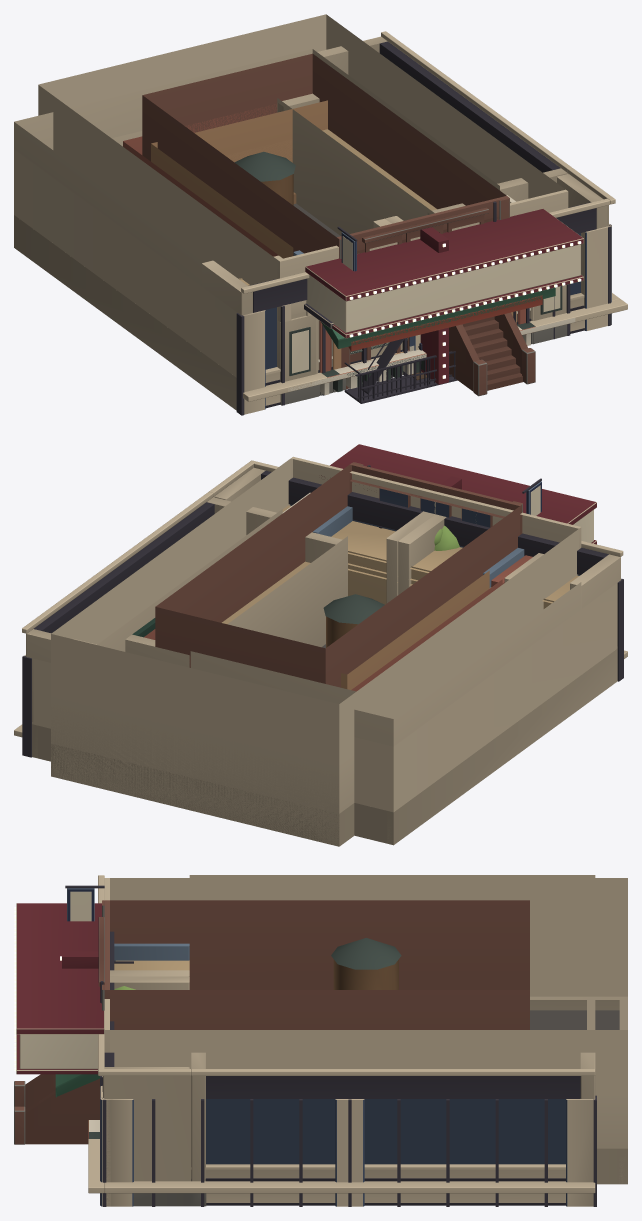
Rendered from buildings.glb.
3 views of the same model, one above another, from view 1: azimuth 30°, elevation 25°; view 2: azimuth 150°, elevation 25°; view 3: azimuth 270°, elevation 25° (orthographic). The views are drawn at different scales.
Visible parts, largest first — view 1: theater_base, brownstone_base, office_base, office_mid, limestone_base, office_top, laundry_base, walkup_base, walkup_top, walkup_mid, theater_mid, laundry_mid (+3 smaller); view 2: theater_base, office_base, brownstone_base, office_mid, theater_mid, limestone_base, office_top, theater_top, laundry_base, walkup_top, walkup_base; view 3: brownstone_base, theater_base, office_mid, office_base, office_top, theater_mid, walkup_top, theater_top, laundry_base, limestone_base.
Part boxes in pixels (left/top/right/bottom): theater_base: left=38, top=14, right=583, bottom=405; brownstone_base: left=142, top=53, right=535, bottom=401; office_base: left=14, top=31, right=615, bottom=328; office_mid: left=14, top=149, right=611, bottom=415; limestone_base: left=112, top=93, right=555, bottom=395; office_top: left=14, top=215, right=627, bottom=410; laundry_base: left=151, top=100, right=357, bottom=392; walkup_base: left=123, top=104, right=542, bottom=395; walkup_top: left=234, top=151, right=535, bottom=403; walkup_mid: left=320, top=309, right=525, bottom=403; theater_mid: left=280, top=74, right=555, bottom=384; laundry_mid: left=225, top=139, right=516, bottom=369; theater_base: left=51, top=444, right=596, bottom=845; office_base: left=22, top=460, right=623, bottom=746; brownstone_base: left=155, top=462, right=522, bottom=687; office_mid: left=22, top=504, right=623, bottom=812; theater_mid: left=51, top=504, right=339, bottom=846; limestone_base: left=125, top=492, right=543, bottom=703; office_top: left=14, top=646, right=627, bottom=845; theater_top: left=51, top=744, right=354, bottom=846; laundry_base: left=313, top=478, right=541, bottom=689; walkup_top: left=322, top=594, right=384, bottom=648; walkup_base: left=144, top=555, right=532, bottom=691; brownstone_base: left=14, top=900, right=529, bottom=1144; theater_base: left=14, top=878, right=627, bottom=1148; office_mid: left=100, top=1076, right=596, bottom=1206; office_base: left=98, top=875, right=595, bottom=1206; office_top: left=88, top=1000, right=595, bottom=1202; theater_mid: left=102, top=925, right=627, bottom=1076; walkup_top: left=88, top=938, right=401, bottom=1138; theater_top: left=88, top=996, right=627, bottom=1184; laundry_base: left=65, top=885, right=189, bottom=960; limestone_base: left=55, top=1074, right=99, bottom=1097.
Bounding box in the file's own units: 14.55 × 6.03 × 18.77.
